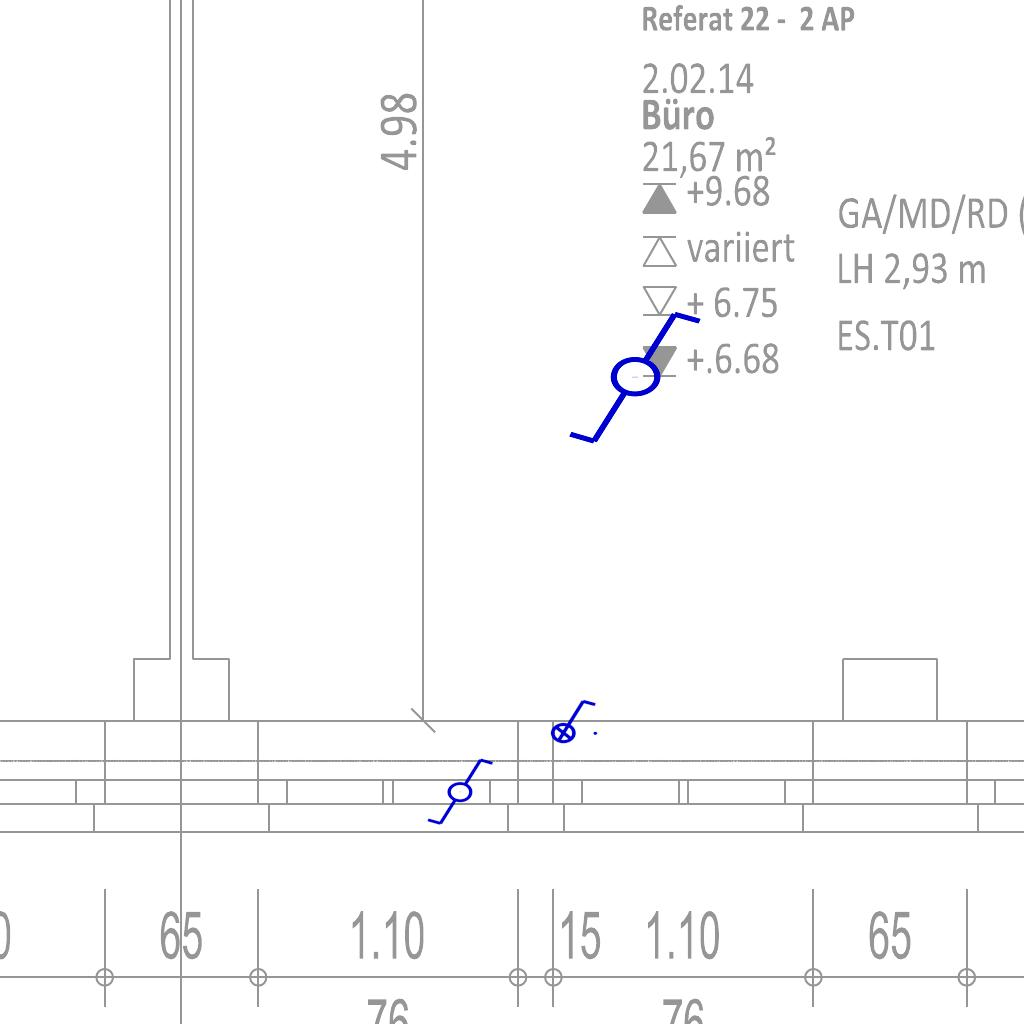Ausschalter_beleuchtet: (544, 696, 600, 744)
Wechselschalter: (565, 307, 722, 451), (417, 755, 495, 827)
